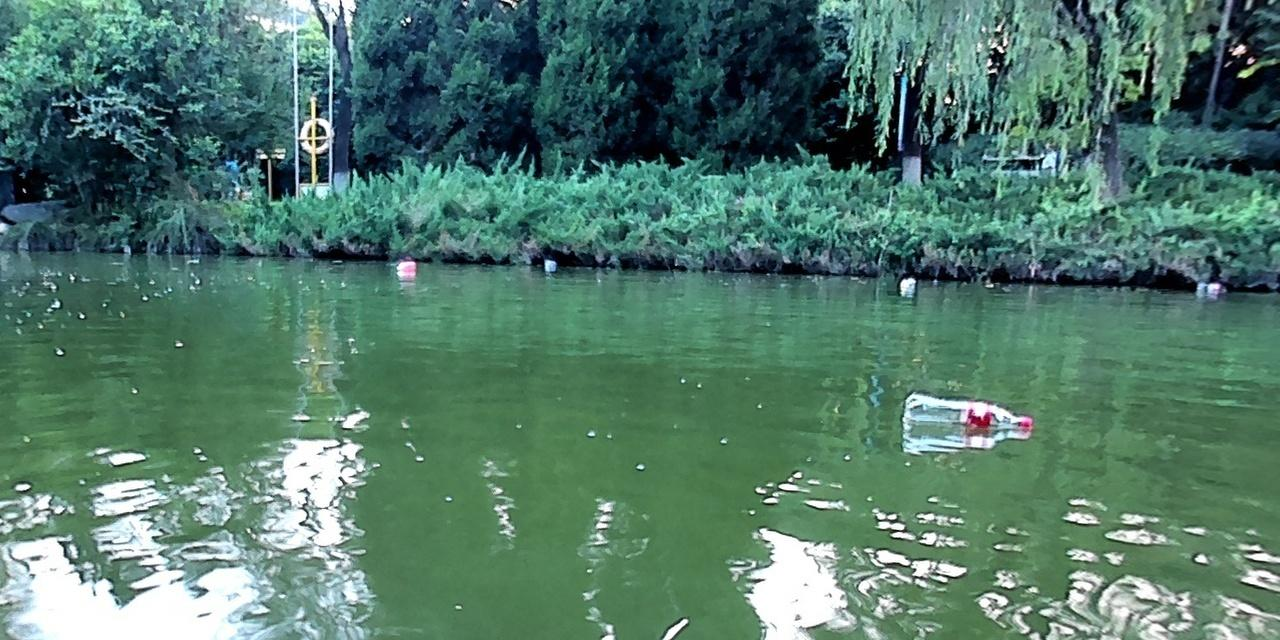bottle: (898, 393, 1039, 442), (1194, 281, 1225, 298), (897, 274, 916, 295), (390, 259, 416, 274), (539, 257, 557, 274)
